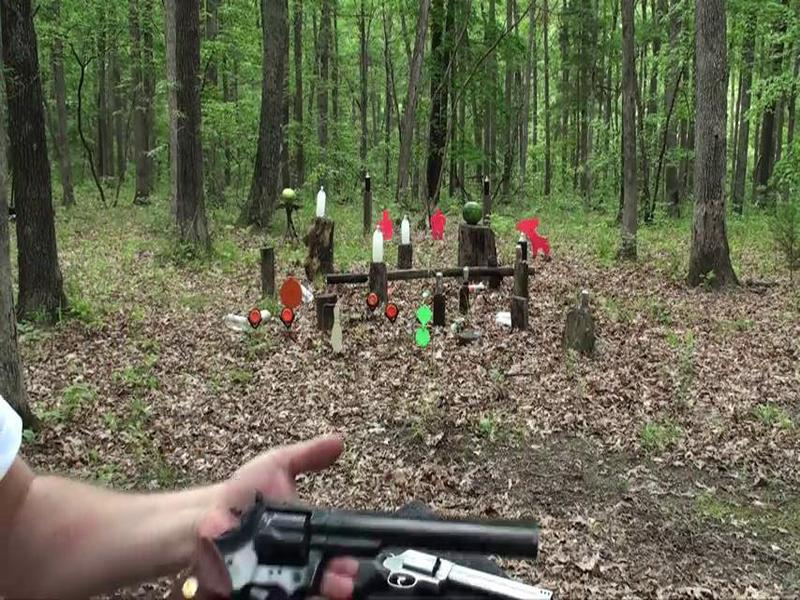Revolver: (110, 475, 540, 600)
